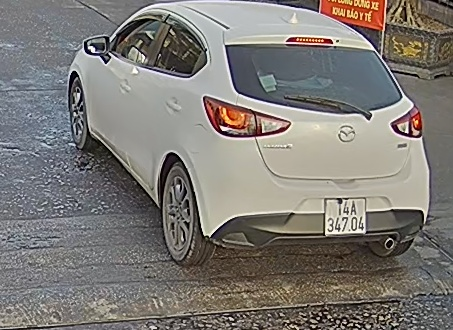vehicle plate: (320, 194, 369, 234)
